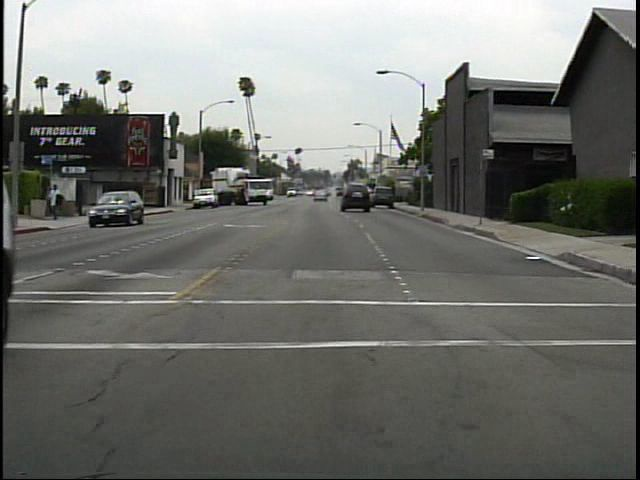person: (49, 181, 70, 224)
